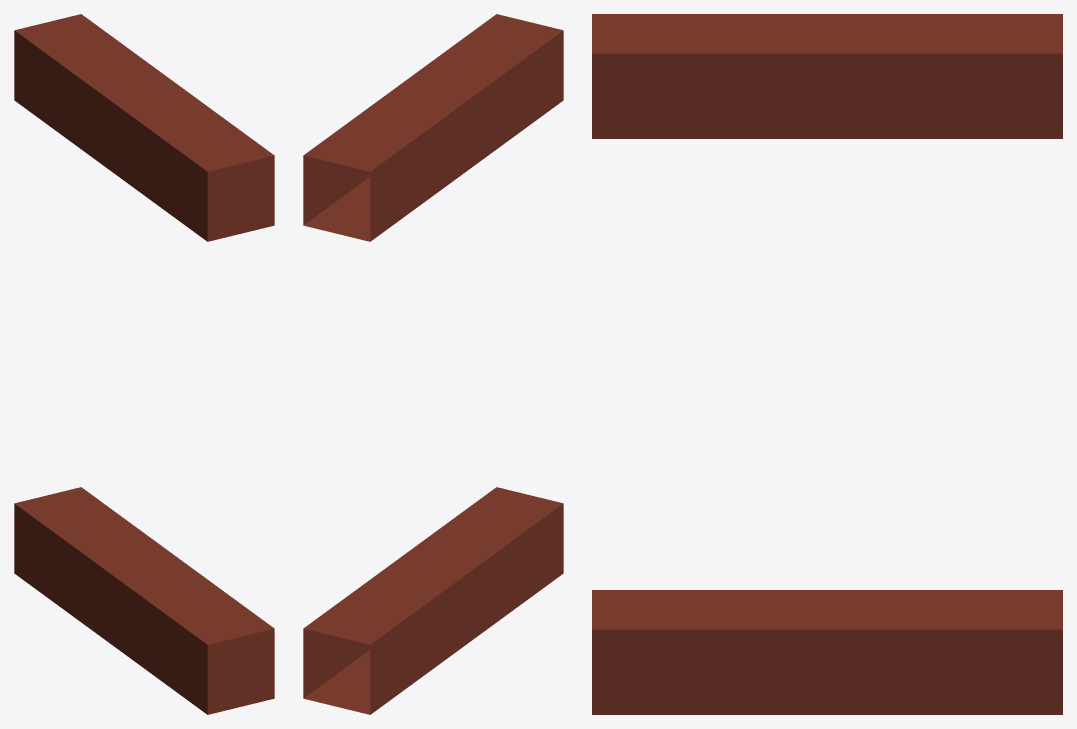
The model's file is pillar.glb.
3 renders of one model, left to right at view 1: azimuth 30°, elevation 25°; view 2: azimuth 150°, elevation 25°; view 3: azimuth 270°, elevation 25°, orthographic. The views are drawn at different scales.
Parts seen in each view (by area): view 1: bridge_10_pillar; view 2: bridge_10_pillar; view 3: bridge_10_pillar.
Boxes of the visible parts, x1,y1,x2,y2 form: bridge_10_pillar: (14,14,274,714); bridge_10_pillar: (303,14,563,714); bridge_10_pillar: (592,14,1062,714).
Size of the model in its own units: 1.6 by 12.4 by 8.
